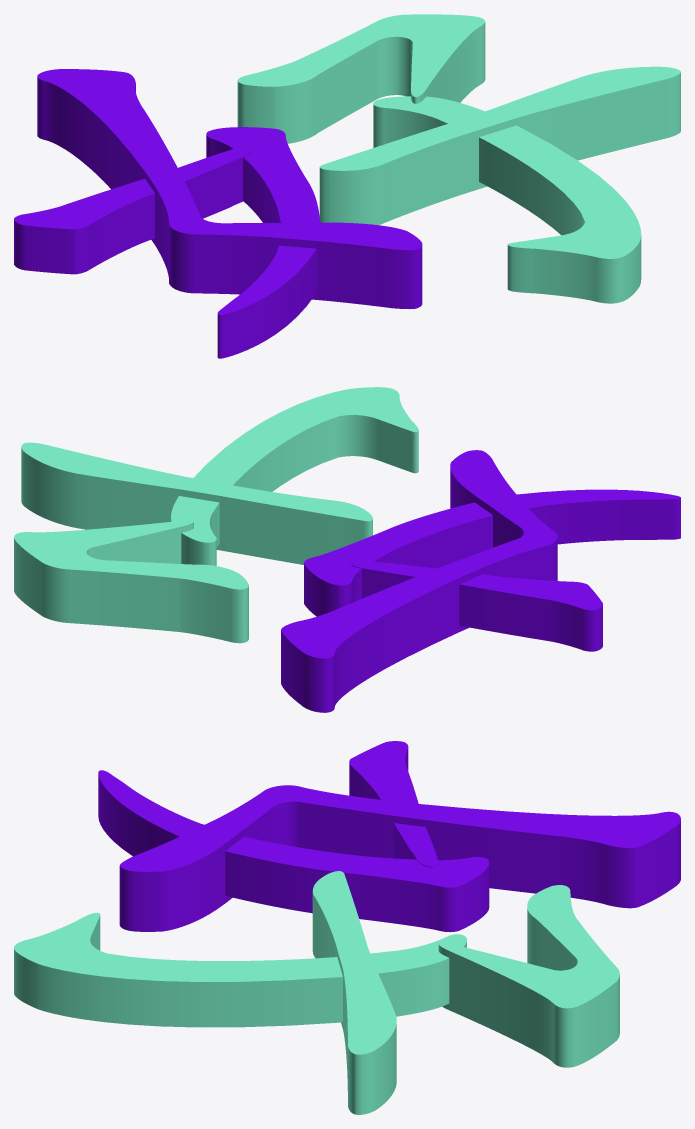
Rendered from hanzi103.fbx.
3 renders of one model, top to bottom at view 1: azimuth 30°, elevation 25°; view 2: azimuth 150°, elevation 25°; view 3: azimuth 270°, elevation 25°, orthographic. The views are drawn at different scales.
Visible parts, largest first — view 1: Curve, Curve.005, Curve.004, Curve.003, Curve.001, Curve.002; view 2: Curve, Curve.003, Curve.005, Curve.001, Curve.004, Curve.002; view 3: Curve, Curve.004, Curve.001, Curve.003, Curve.005, Curve.002.
Part boxes in pixels (x1,y1,x2,y2): Curve: (37,69,422,309); Curve.005: (319,66,680,225); Curve.004: (373,96,641,303); Curve.003: (237,14,485,143); Curve.001: (206,127,320,358); Curve.002: (14,146,252,274); Curve: (281,450,557,712); Curve.003: (14,520,248,643); Curve.005: (21,442,372,564); Curve.001: (304,489,680,616); Curve.004: (171,387,418,565); Curve.002: (350,561,602,651); Curve: (119,785,680,931); Curve.004: (14,912,466,1027); Curve.001: (98,770,489,932); Curve.003: (438,885,619,1067); Curve.005: (312,871,396,1114); Curve.002: (349,741,438,867).
Size of the model in its own units: 26.19 by 23.01 by 2.3.
